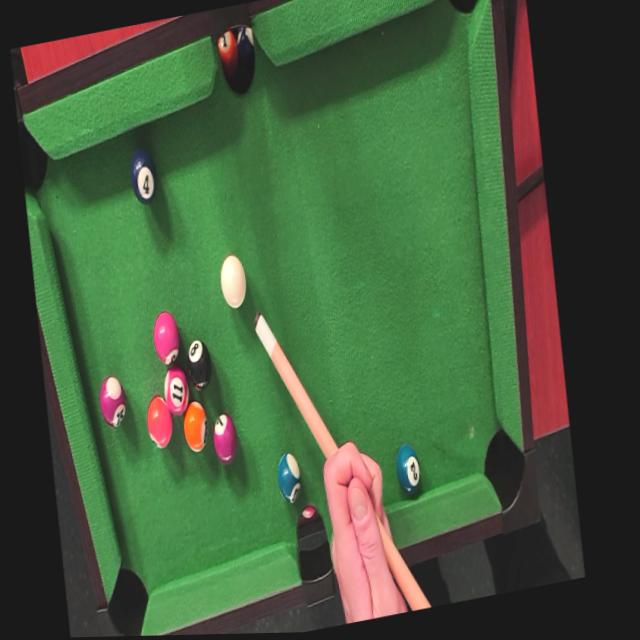cue ball: (211, 248, 254, 314)
other: (385, 430, 432, 507), (120, 143, 166, 214), (88, 367, 136, 434), (155, 350, 202, 417), (137, 391, 184, 458), (264, 440, 308, 511), (178, 332, 223, 400), (143, 305, 187, 368), (175, 392, 216, 456), (202, 407, 244, 468)
